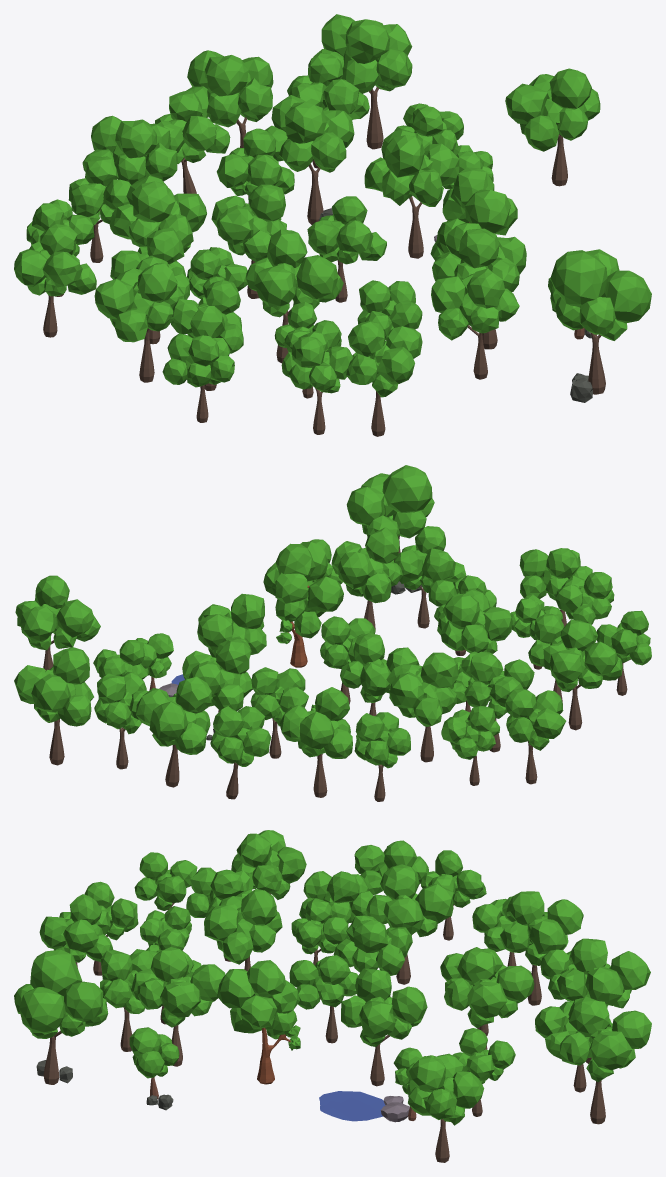
File: ambienteAbeja.fbx
The picture shows the model from 3 angles, top to bottom: view 1: azimuth 30°, elevation 25°; view 2: azimuth 150°, elevation 25°; view 3: azimuth 270°, elevation 25°; orthographic projection. The views are drawn at different scales.
Parts seen in each view (by area): view 1: hojas1, hojas3, hojas3.022, hojas3.007, hojas3.024, hojas3.002, hojas3.005, hojas3.019, hojas3.016, hojas3.017, hojas3.010, hojas3.011 (+23 smaller); view 2: hojas2, hojas1, hojas3.022, hojas3.024, hojas3, hojas3.016, hojas3.019, hojas3.001, hojas3.017, hojas3.007, hojas3.005, hojas3.002 (+20 smaller); view 3: hojas1, hojas3.022, hojas2, hojas3.005, hojas3.002, hojas3.001, hojas3.024, hojas3.007, hojas3.016, hojas3.017, hojas3, hojas3.019 (+24 smaller).
Part boxes in pixels (left/top/right/bottom): hojas1: left=550, top=249, right=651, bottom=340; hojas3: left=505, top=68, right=600, bottom=151; hojas3.022: left=313, top=14, right=412, bottom=93; hojas3.007: left=246, top=229, right=343, bottom=317; hojas3.024: left=186, top=50, right=273, bottom=127; hojas3.002: left=364, top=129, right=459, bottom=206; hojas3.005: left=265, top=95, right=354, bottom=172; hojas3.019: left=94, top=263, right=184, bottom=342; hojas3.016: left=109, top=175, right=206, bottom=252; hojas3.017: left=82, top=115, right=177, bottom=184; hojas3.010: left=431, top=268, right=519, bottom=340; hojas3.011: left=346, top=320, right=422, bottom=397; hojas2: left=263, top=541, right=343, bottom=643; hojas1: left=346, top=465, right=434, bottom=538; hojas3.022: left=14, top=647, right=93, bottom=726; hojas3.024: left=136, top=676, right=211, bottom=754; hojas3: left=15, top=575, right=100, bottom=650; hojas3.016: left=386, top=652, right=458, bottom=726; hojas3.019: left=543, top=619, right=622, bottom=691; hojas3.001: left=331, top=527, right=402, bottom=603; hojas3.017: left=279, top=687, right=352, bottom=758; hojas3.007: left=437, top=589, right=512, bottom=653; hojas3.005: left=182, top=639, right=252, bottom=711; hojas3.002: left=197, top=593, right=266, bottom=657; hojas1: left=14, top=949, right=108, bottom=1038; hojas3.022: left=560, top=996, right=651, bottom=1082; hojas2: left=217, top=960, right=300, bottom=1050; hojas3.005: left=444, top=947, right=534, bottom=1028; hojas3.002: left=341, top=968, right=427, bottom=1046; hojas3.001: left=137, top=947, right=225, bottom=1027; hojas3.024: left=557, top=938, right=650, bottom=1008; hojas3.007: left=204, top=889, right=282, bottom=964; hojas3.016: left=366, top=864, right=453, bottom=936; hojas3.017: left=500, top=891, right=583, bottom=965; hojas3: left=407, top=1053, right=484, bottom=1125; hojas3.019: left=231, top=830, right=306, bottom=899.
Bounding box in the file's own units: 54.94 × 13.02 × 56.34.
